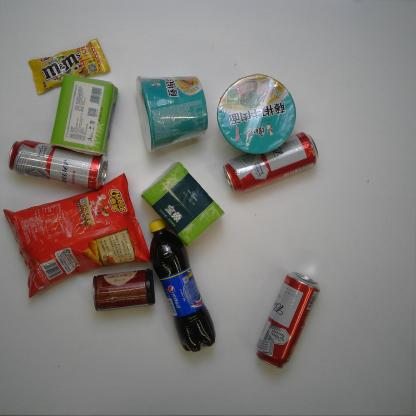Alcohol: (255, 267, 323, 378), (221, 131, 321, 196), (4, 138, 111, 191)
Canned Food: (86, 267, 159, 313)
Chocolate: (26, 38, 113, 96)
Drink: (142, 211, 218, 356)
Instant Noodles: (213, 73, 301, 158), (132, 75, 209, 154)
Puffed Food: (2, 170, 150, 302)
Tissue: (138, 158, 228, 251), (47, 73, 123, 160)
